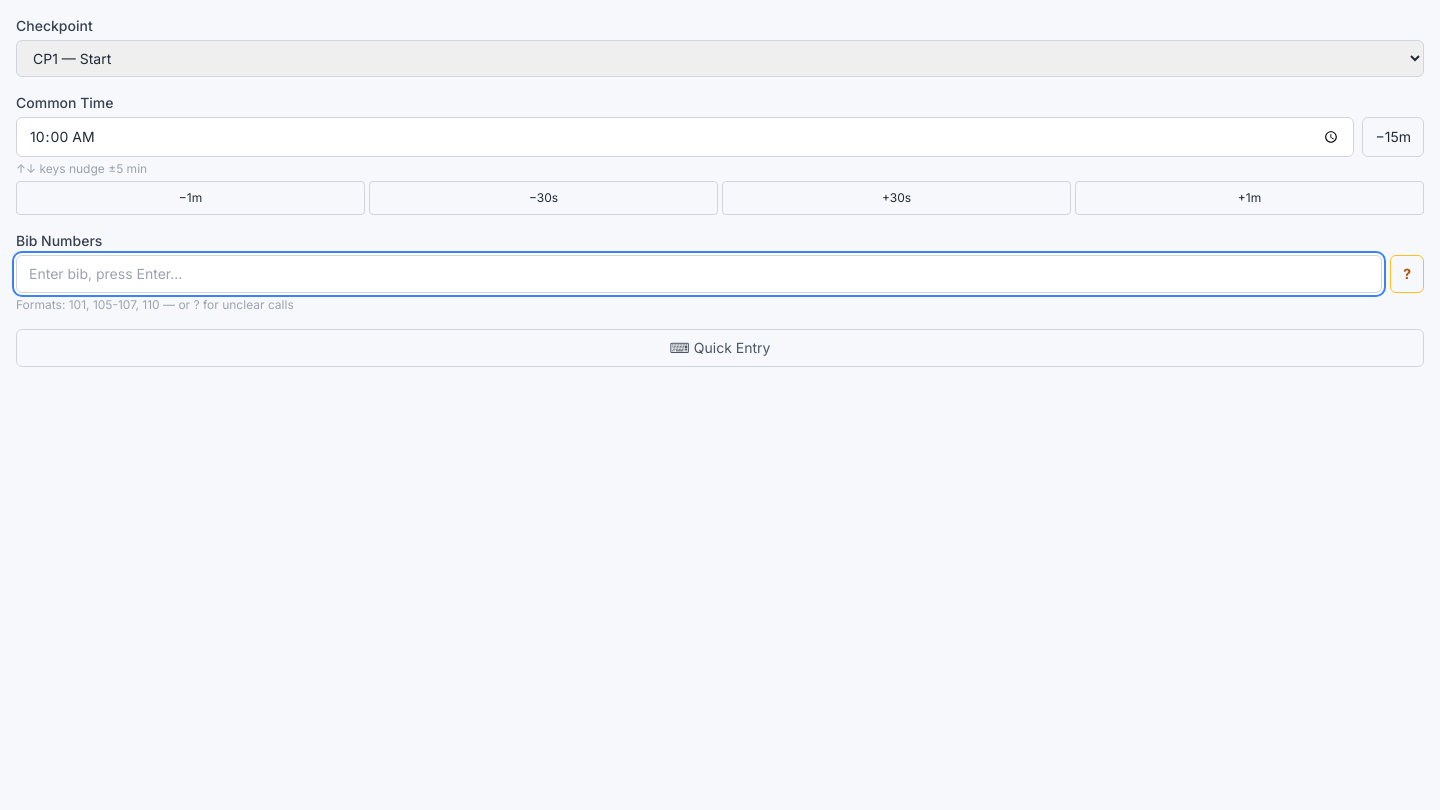
Test: InputSection — Quick Entry panel › toggle button reveals the textarea and numpad
The width and height of the screenshot is (1440, 810).
Click the button "⌨ Quick Entry" at (720, 348), box [16, 329, 1424, 367]
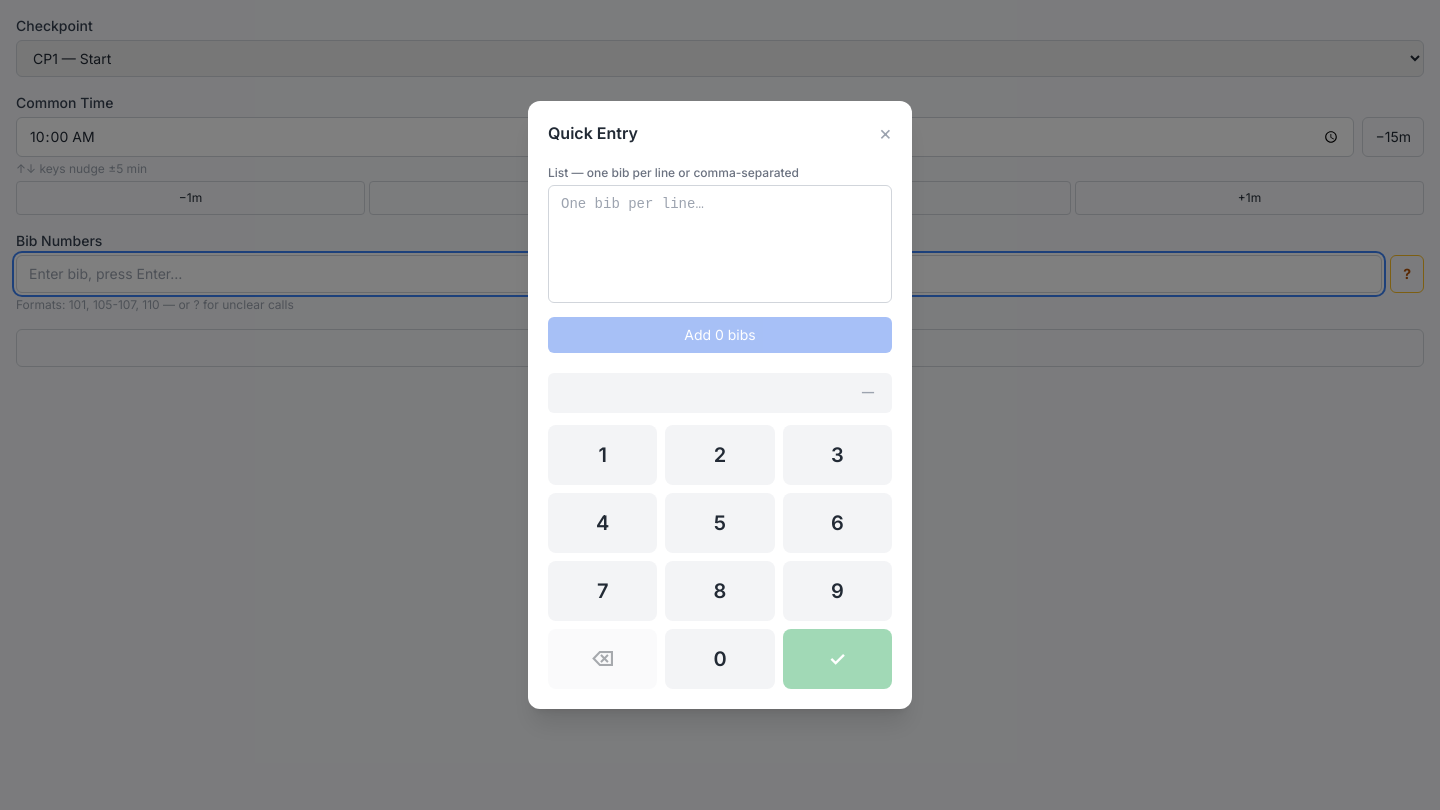
Result: the text box with placeholder "One bib per line…" is shown at [548, 185, 892, 303]
Result: the element with test id "numpad-display" is shown at [548, 373, 892, 413]
